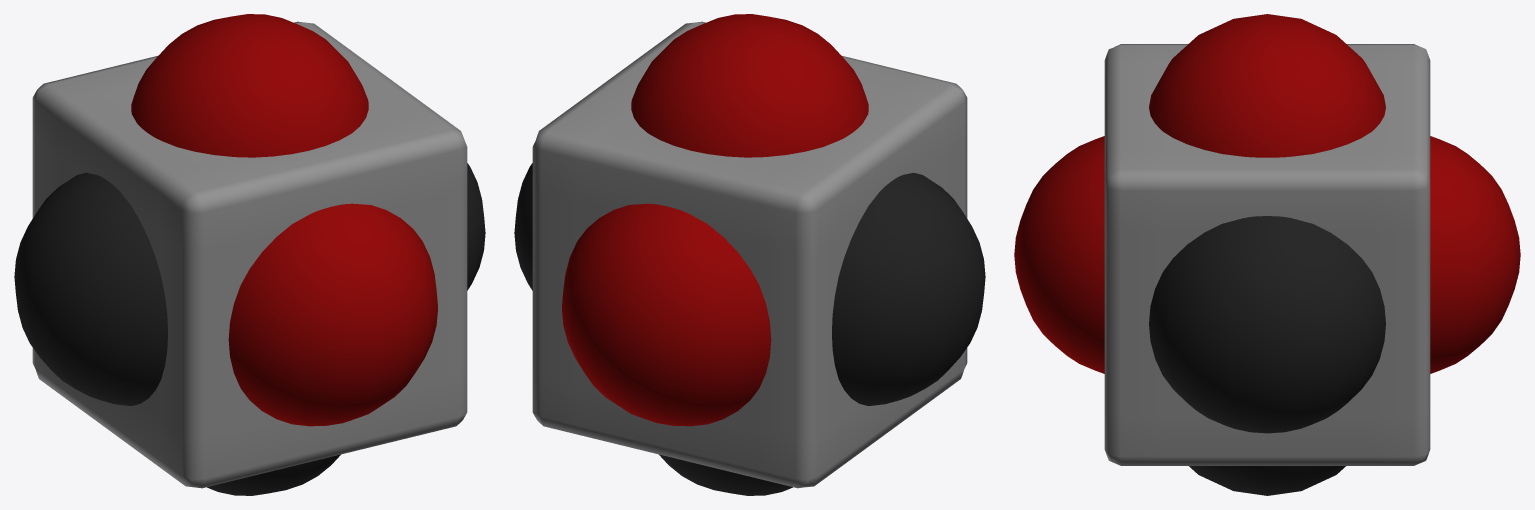
3 renders of one model, left to right at view 1: azimuth 30°, elevation 25°; view 2: azimuth 150°, elevation 25°; view 3: azimuth 270°, elevation 25°, orthographic.
Visible parts, largest first — view 1: cube, front_face, right_face, top_face, bottom_face, left_face; view 2: cube, back_face, right_face, top_face, bottom_face, left_face; view 3: cube, left_face, top_face, back_face, front_face, bottom_face.
Part boxes in pixels (x1,y1,x2,y2): cube: (32, 21, 467, 488); front_face: (228, 203, 437, 426); right_face: (14, 172, 167, 405); top_face: (131, 14, 368, 157); bottom_face: (207, 454, 340, 495); left_face: (467, 163, 485, 290); cube: (532, 21, 967, 488); back_face: (562, 203, 771, 426); right_face: (832, 172, 985, 405); top_face: (631, 14, 868, 157); bottom_face: (659, 454, 792, 495); left_face: (514, 163, 532, 290); cube: (1104, 44, 1430, 465); left_face: (1149, 216, 1385, 433); top_face: (1149, 14, 1385, 157); back_face: (1430, 136, 1520, 373); front_face: (1014, 136, 1104, 373); bottom_face: (1189, 466, 1345, 495).
Bounding box in the file's own units: 15.55 × 15.55 × 15.55.
